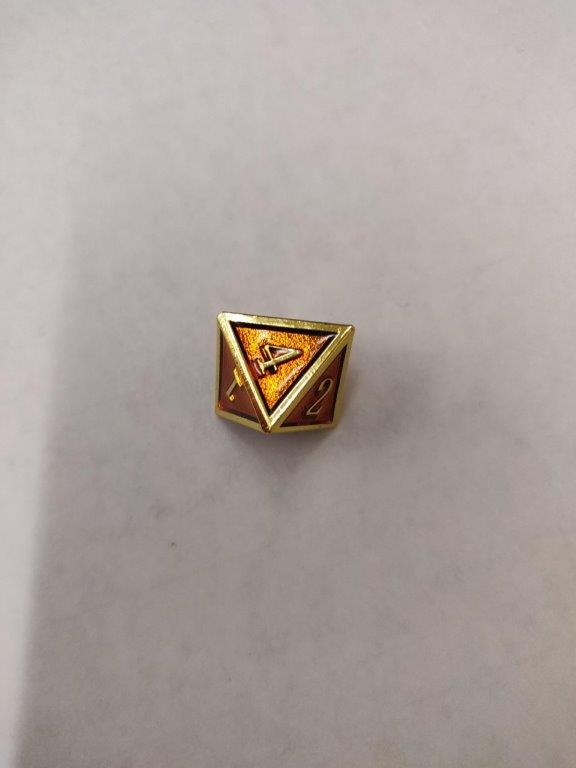d8-4: (211, 308, 357, 435)
